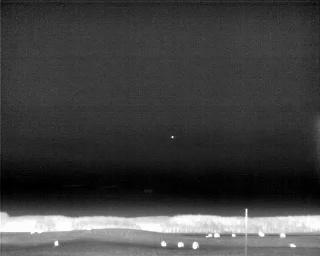BIRD: (169, 134, 176, 141)
